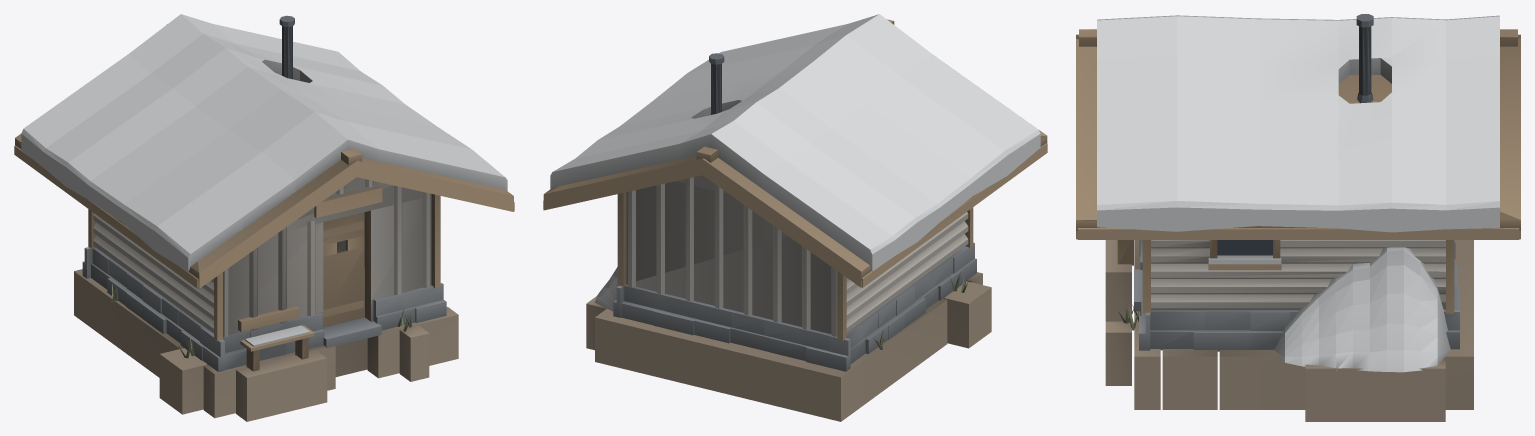
The model's file is refuge.glb.
The picture shows the model from 3 angles, left to right: view 1: azimuth 30°, elevation 25°; view 2: azimuth 150°, elevation 25°; view 3: azimuth 270°, elevation 25°; orthographic projection. The views are drawn at different scales.
Parts seen in each view (by area): view 1: refuge; view 2: refuge; view 3: refuge.
Part boxes in pixels (x1,y1,x2,y2): refuge: (14,14,514,421); refuge: (543,14,1047,421); refuge: (1076,14,1520,421).
Bounding box in the file's own units: 7.8 × 6.73 × 7.8.
